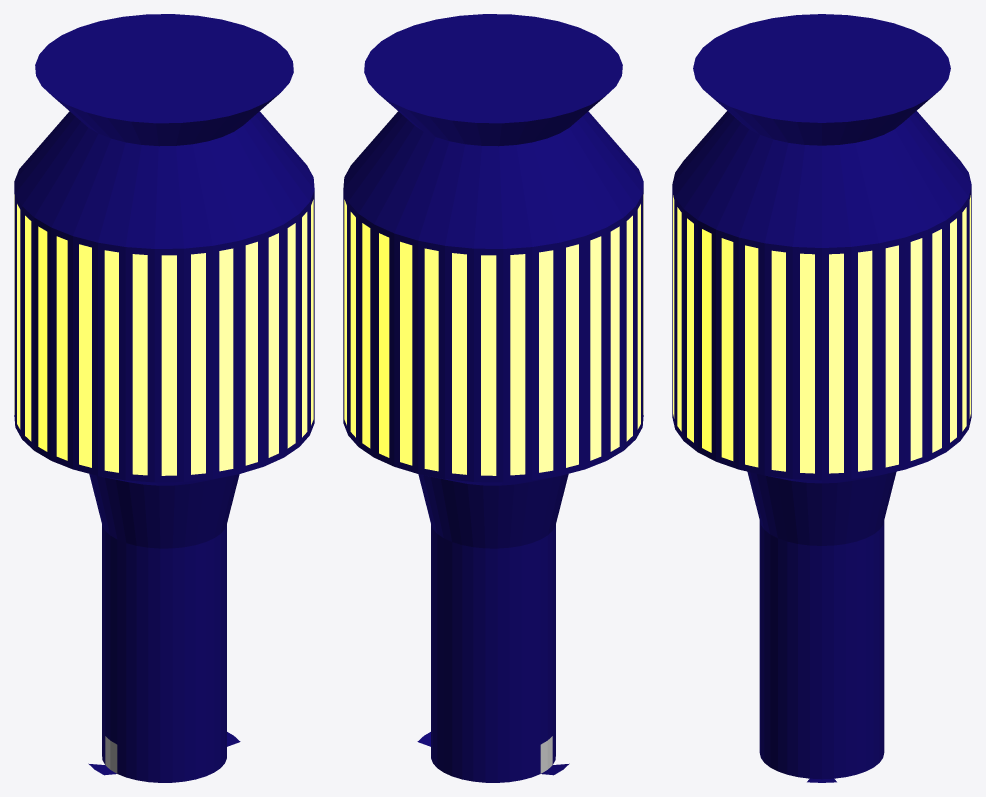
The model's file is ECIA_ATC.fbx.
The picture shows the model from 3 angles, left to right: view 1: azimuth 30°, elevation 25°; view 2: azimuth 150°, elevation 25°; view 3: azimuth 270°, elevation 25°; orthographic projection.
Visible parts, largest first — view 1: Circle; view 2: Circle; view 3: Circle.
Part boxes in pixels (left/top/right/bottom): Circle: left=14, top=14, right=314, bottom=782; Circle: left=343, top=14, right=643, bottom=782; Circle: left=672, top=14, right=971, bottom=782.
Bounding box in the file's own units: 748 × 1887 × 748.
